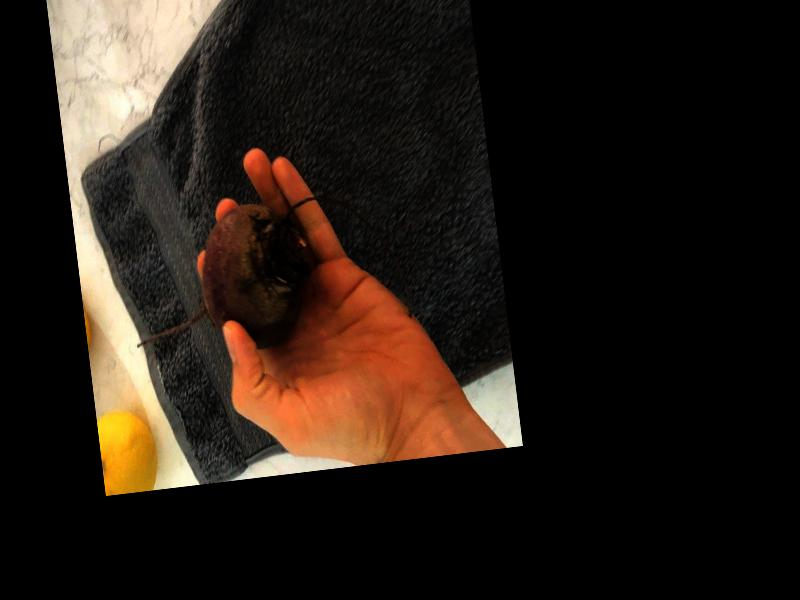Beet: (122, 199, 324, 363)
